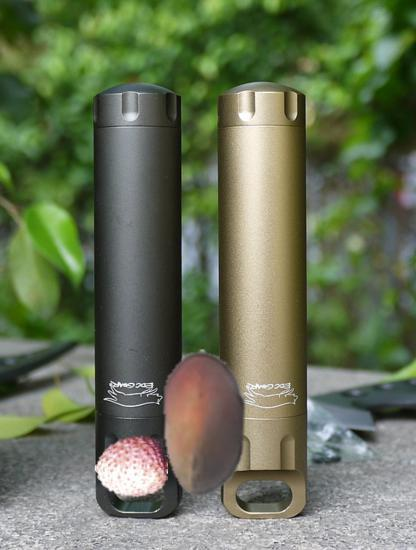Hazelnut: (130, 350, 279, 499)
Lychee: (95, 429, 168, 502)
